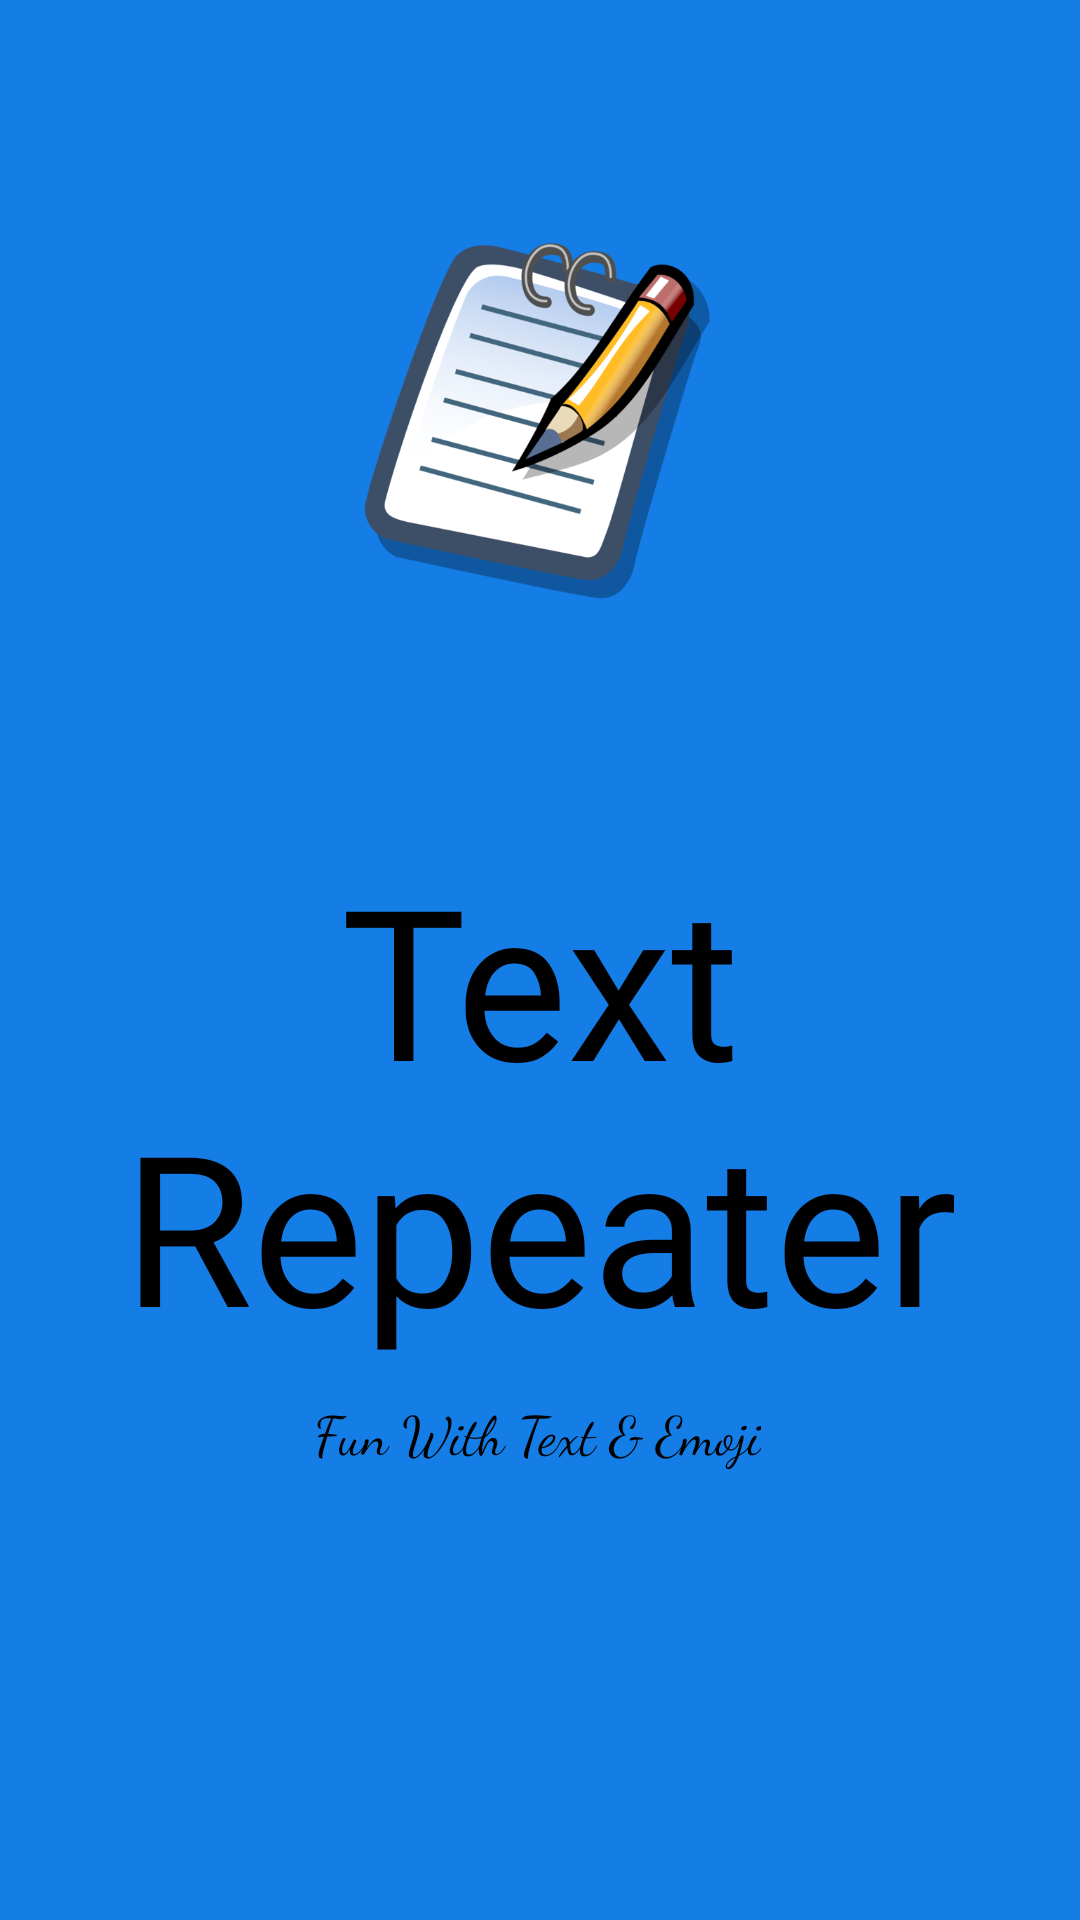

Where icons sit on this 1080*1920 app screen, as (x1, y1, x2, y2):
notepad: (365, 243, 710, 598)
